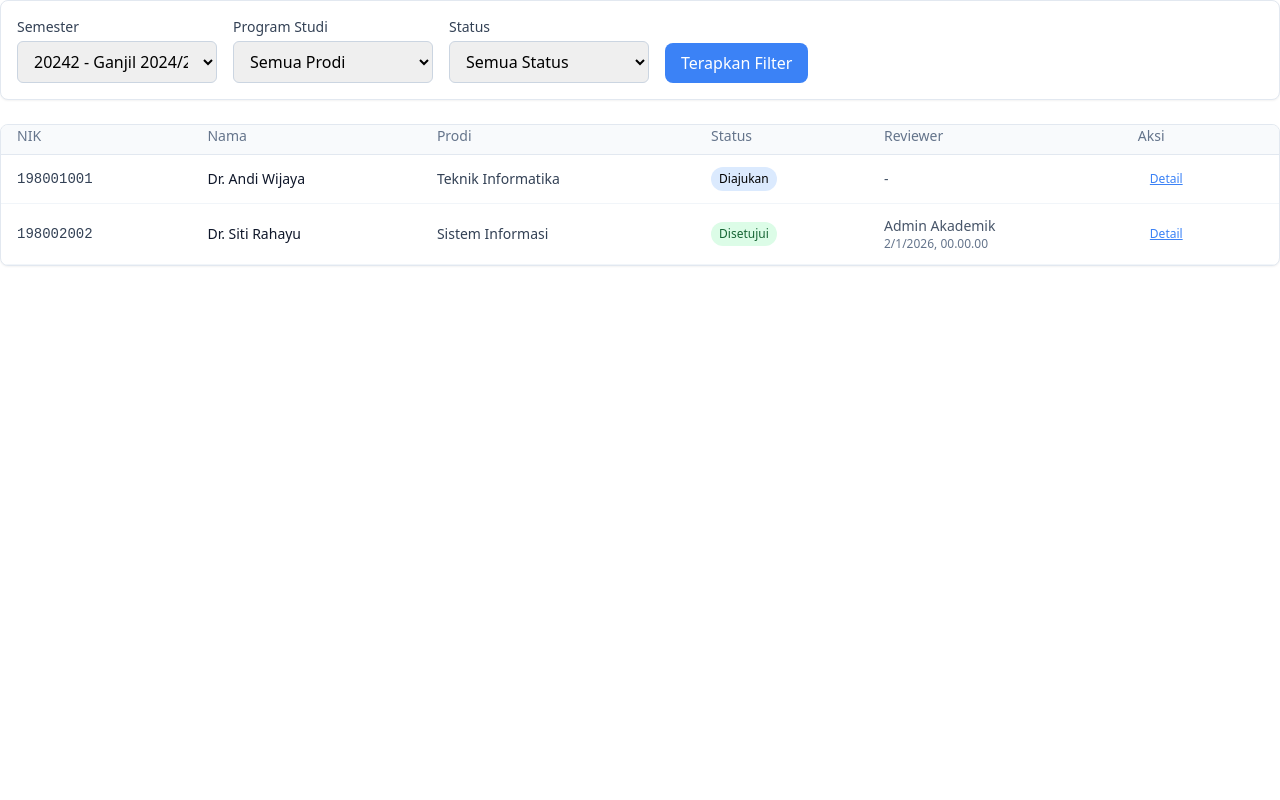
AdminCourseReviewPage — Persetujuan MK Dosen › modal detail → klik Setujui → buka review modal
The image size is (1280, 800).
Click the button "Detail" in the row of "198001001" at [1166, 179], box x1=1138 y1=167 x2=1195 y2=191
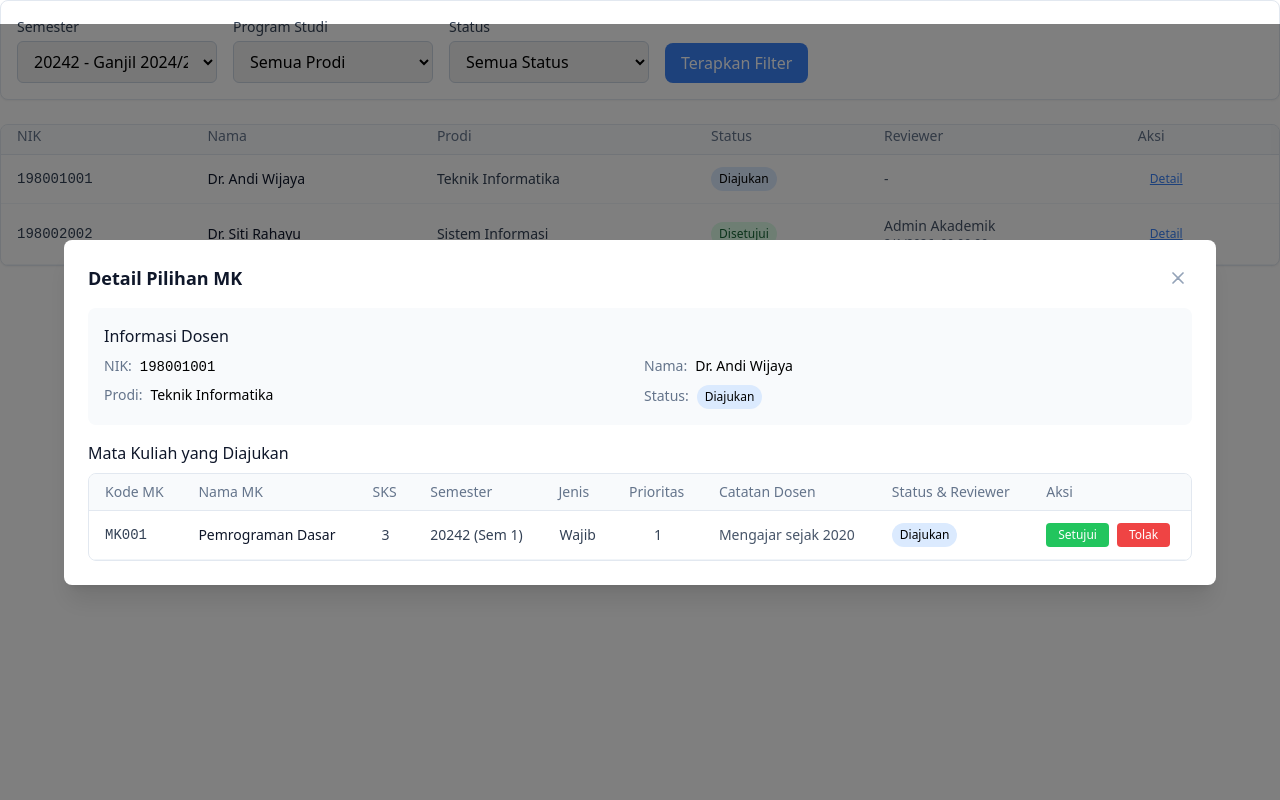
Expected: the button "Setujui" is shown
Click the button "Setujui" at [1078, 534], box x1=1046 y1=522 x2=1109 y2=546
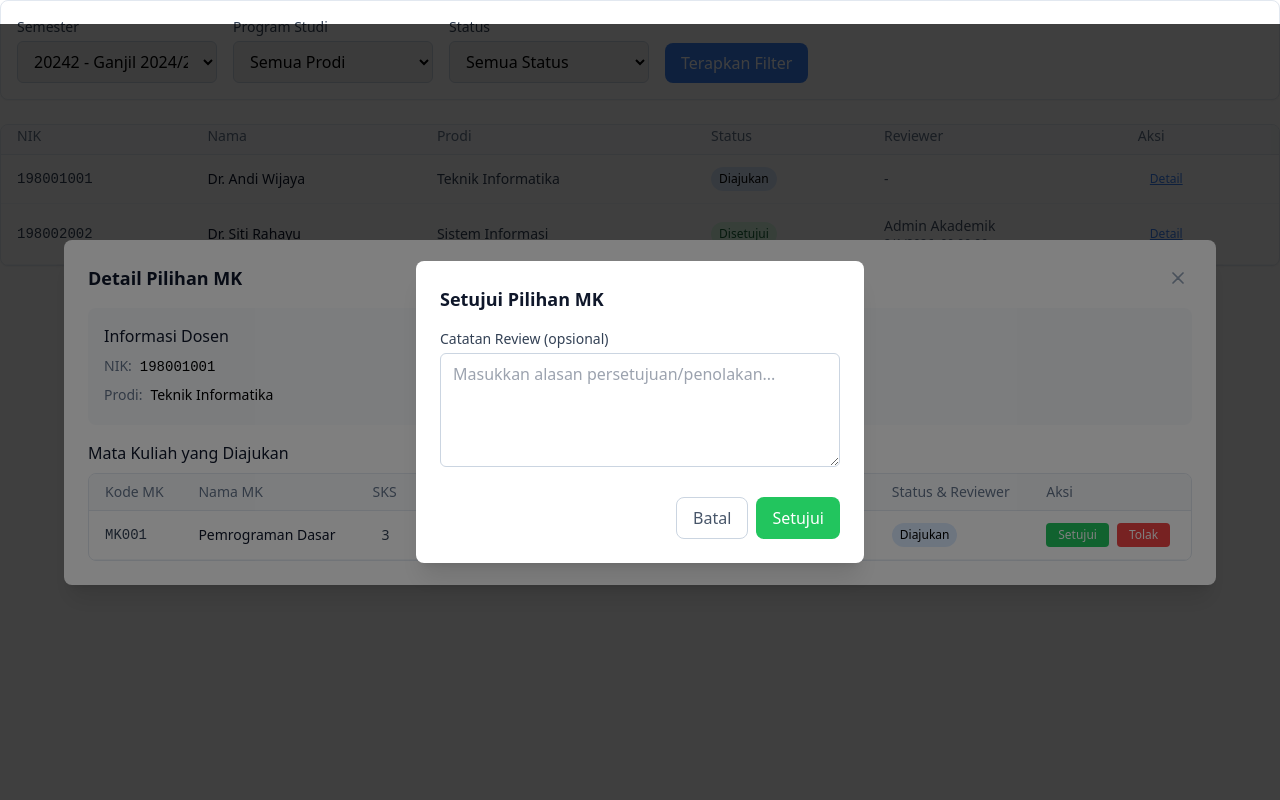
Expected: the number of dialogs is 2
Expected: the heading "Setujui Pilihan MK" is shown, x1=440 y1=287 x2=604 y2=311
